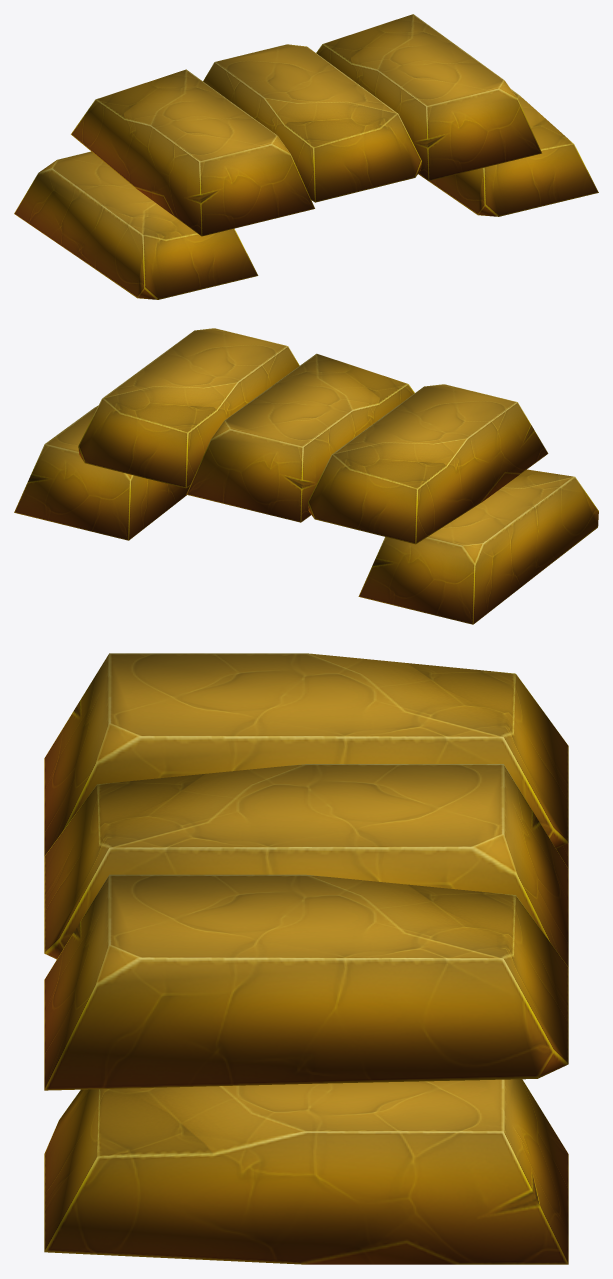
The model's file is Gold-16.fbx.
3 views of the same model, one above another, from view 1: azimuth 30°, elevation 25°; view 2: azimuth 150°, elevation 25°; view 3: azimuth 270°, elevation 25° (orthographic). The views are drawn at different scales.
Visible parts, largest first — view 1: Gold-16; view 2: Gold-16; view 3: Gold-16.
Boxes of the visible parts, x1,y1,x2,y2 form: Gold-16: (14, 14, 598, 299); Gold-16: (14, 328, 598, 624); Gold-16: (44, 653, 568, 1264).
Size of the model in its own units: 0.3 by 0.075 by 0.15.
1 material, 1 textured.
